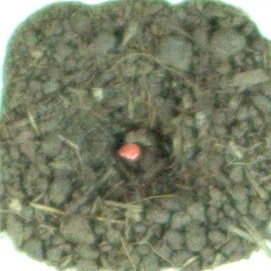pepper seed: (44, 59, 188, 221)
